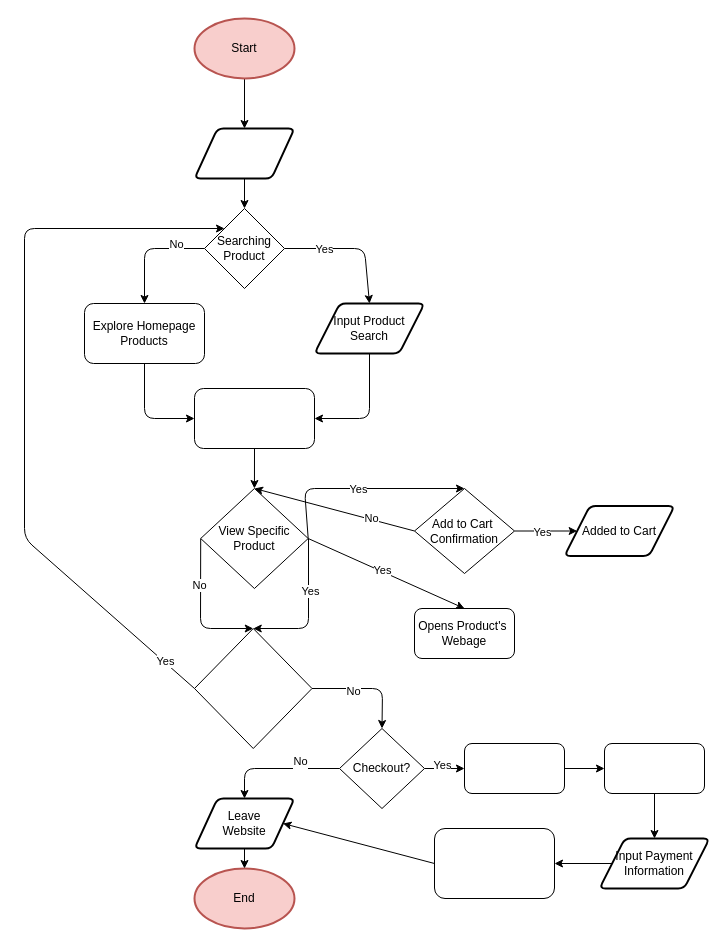
The diagram is 728 pixels wide and 946 high, and some of its shapes have lost their labels. The shapes that lost their labels are listed below. From the top down, each one's centre as x and y in pixels, then its label:
At (x=244, y=153): "Enter Website".
At (x=254, y=418): "Looking Over Products".
At (x=253, y=688): "Continue Shopping?".
At (x=514, y=768): "View Cart Screen".
At (x=654, y=768): "View Payment Screen".
At (x=494, y=863): "Confirmation Screen & Sent Confirmation Email".
